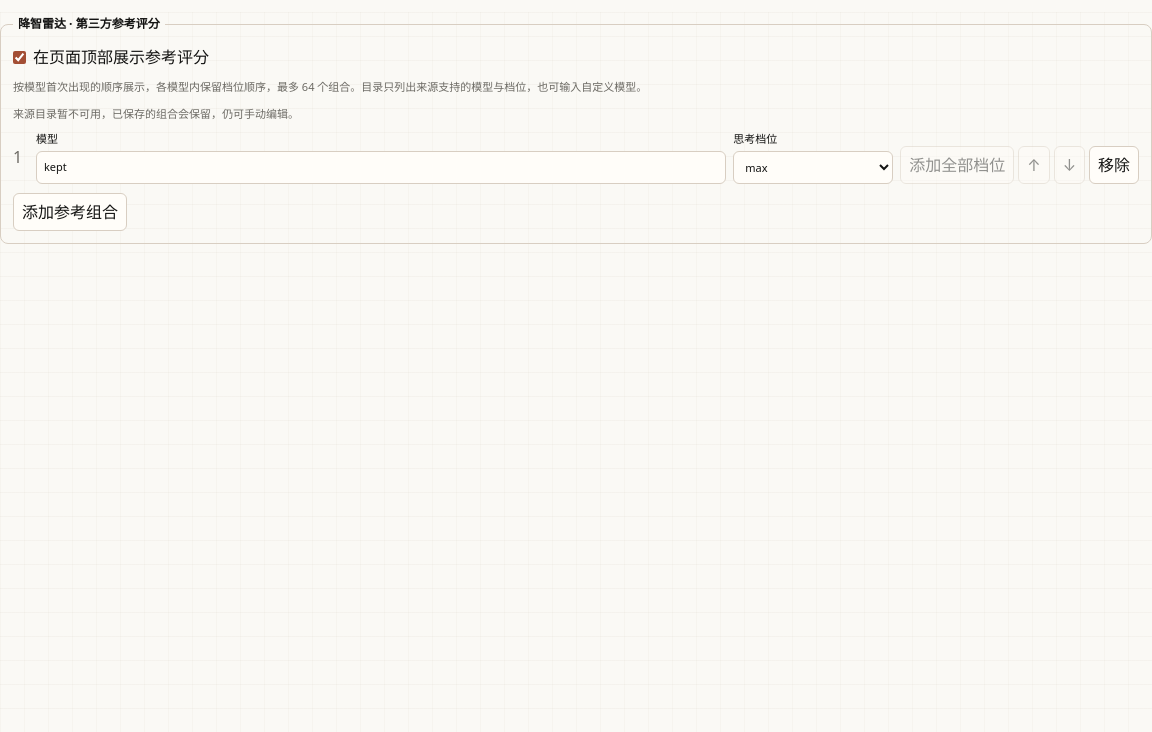
Test: PelicanReferenceSettings › keeps saved selections editable when the catalog is unavailable
The image size is (1152, 732).
Select "ultra" in the dropdown labelled "思考档位" at (813, 167), box [733,151,893,184]
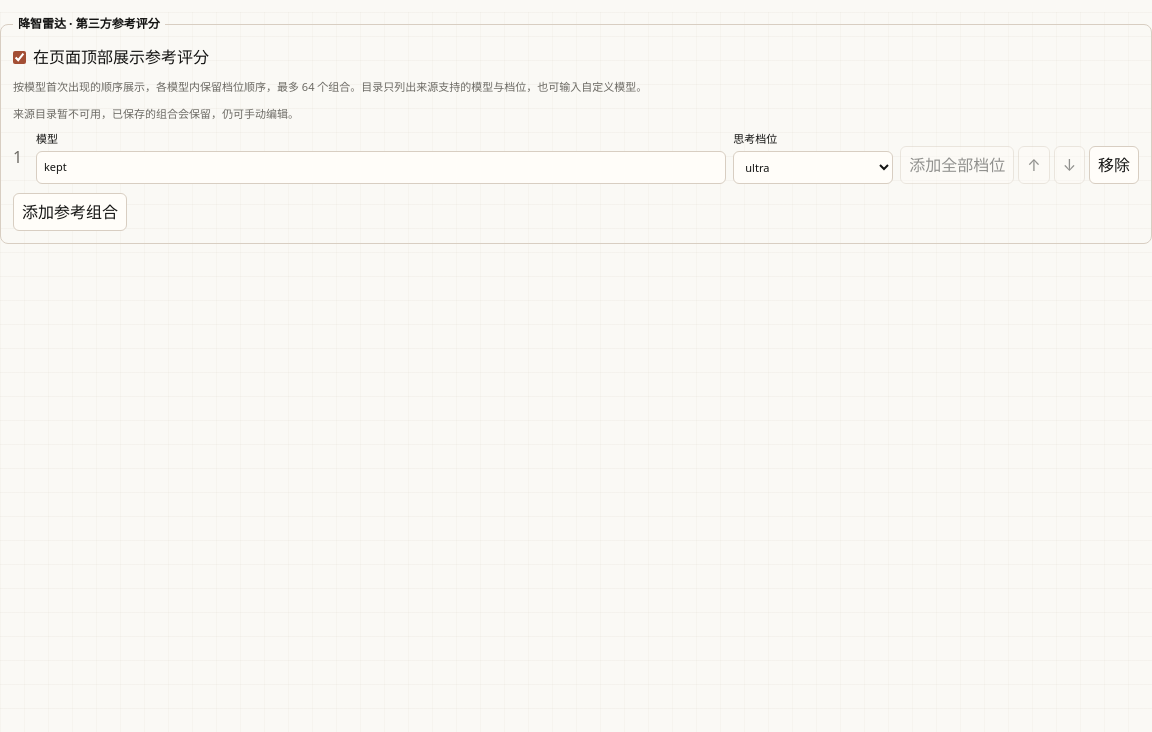
Expected: the field labelled "模型" holds "kept", [36,151,726,184]
Click the button with class "reference-add" at (70, 212), box [13,193,127,231]
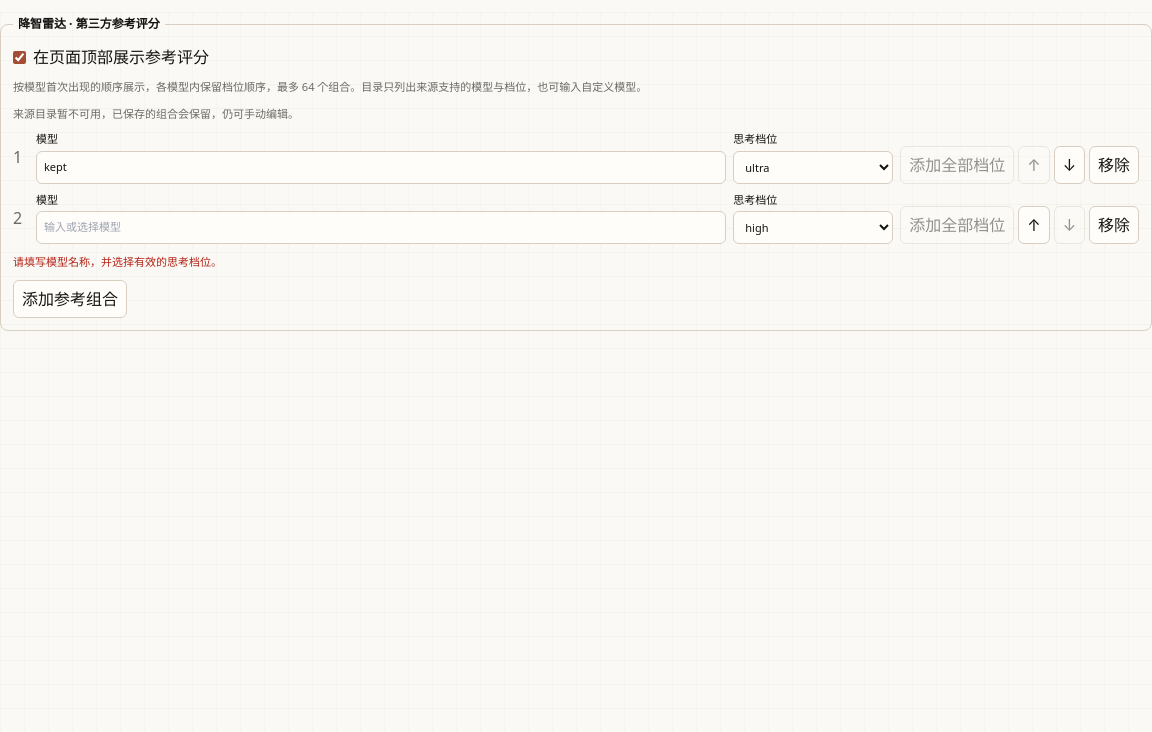
Now the number of fields is 2, box [36,151,726,184]; [36,211,726,244]
Now the text "请填写模型名称" is shown, box [13,254,222,269]
